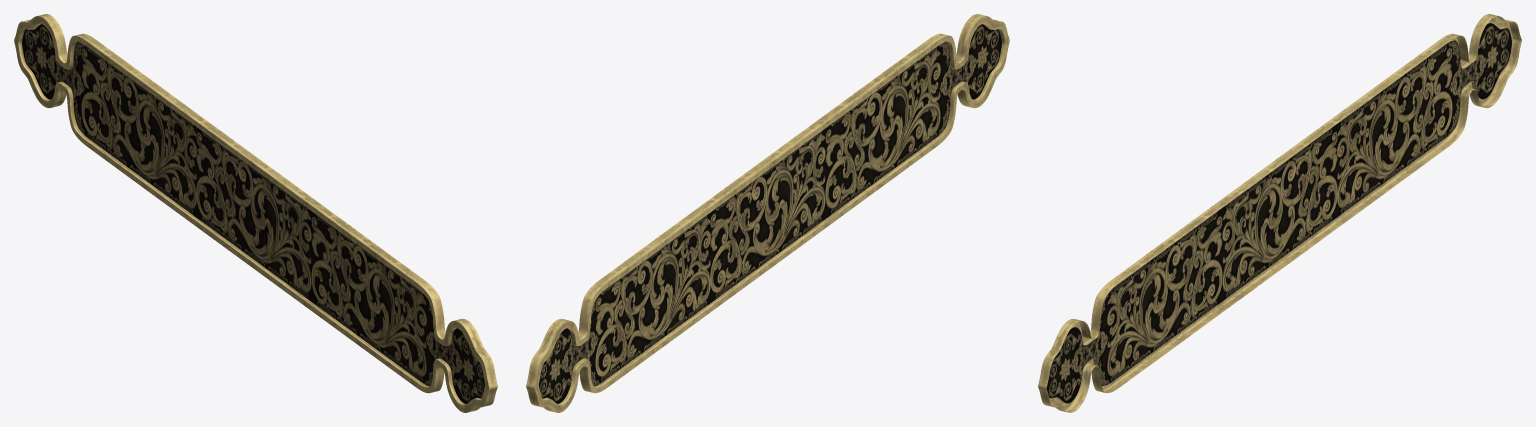
Rendered from SM_MetalPanel_08.fbx.
3 renders of one model, left to right at view 1: azimuth 30°, elevation 25°; view 2: azimuth 150°, elevation 25°; view 3: azimuth 330°, elevation 25°, orthographic.
Visible parts, largest first — view 1: SM_MetalPanel_08_LOD0; view 2: SM_MetalPanel_08_LOD0; view 3: SM_MetalPanel_08_LOD0.
Boxes of the visible parts, x1,y1,x2,y2 form: SM_MetalPanel_08_LOD0: (14,14,497,412); SM_MetalPanel_08_LOD0: (526,14,1009,412); SM_MetalPanel_08_LOD0: (1038,14,1521,412).
Bounding box in the file's own units: 1.63 × 155 × 18.98.
